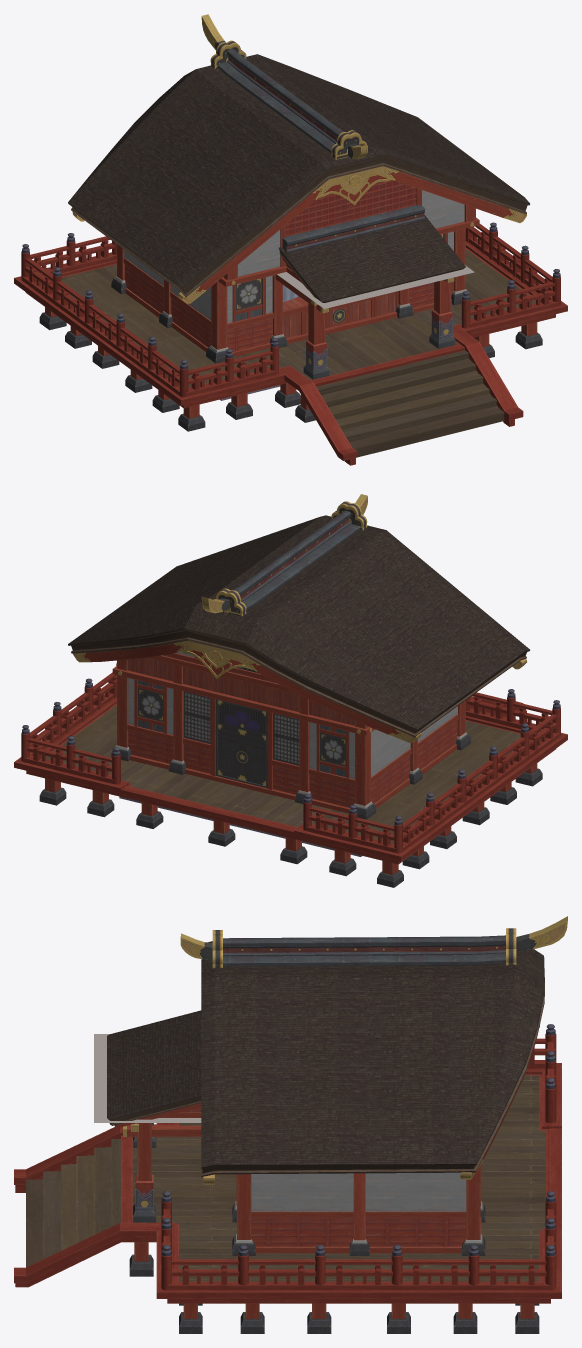
The model's file is Homeworld_Exterior_Dq_Build_Shenshe_02_Lod0.fbx.
3 renders of one model, top to bottom at view 1: azimuth 30°, elevation 25°; view 2: azimuth 150°, elevation 25°; view 3: azimuth 270°, elevation 25°, orthographic. The views are drawn at different scales.
Visible parts, largest first — view 1: Homeworld_Exterior_Dq_Build_Shenshe_02_Lod0, Homeworld_Exterior_Dq_Build_Shenshe_02_Ocl; view 2: Homeworld_Exterior_Dq_Build_Shenshe_02_Lod0; view 3: Homeworld_Exterior_Dq_Build_Shenshe_02_Lod0, Homeworld_Exterior_Dq_Build_Shenshe_02_Ocl.
Boxes of the visible parts, x1,y1,x2,y2 form: Homeworld_Exterior_Dq_Build_Shenshe_02_Lod0: (14,14,567,465); Homeworld_Exterior_Dq_Build_Shenshe_02_Ocl: (277,265,474,308); Homeworld_Exterior_Dq_Build_Shenshe_02_Lod0: (14,494,567,887); Homeworld_Exterior_Dq_Build_Shenshe_02_Lod0: (14,916,567,1333); Homeworld_Exterior_Dq_Build_Shenshe_02_Ocl: (94,1034,201,1122).
Size of what is drawn, in the model's own units: 13.04 by 8.5 by 13.31.
